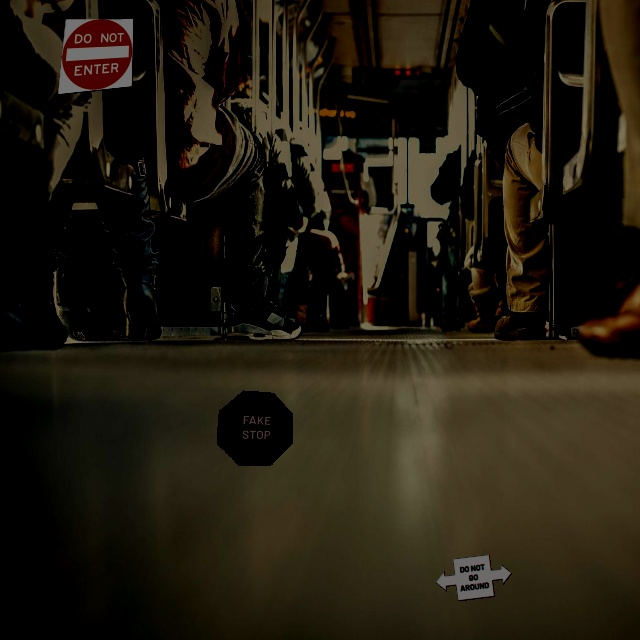DO_NOT_ENTER: (57, 18, 134, 95)
DO_NOT_GO_AROUND: (435, 554, 512, 601)
FAKE_STOP: (216, 390, 293, 466)
